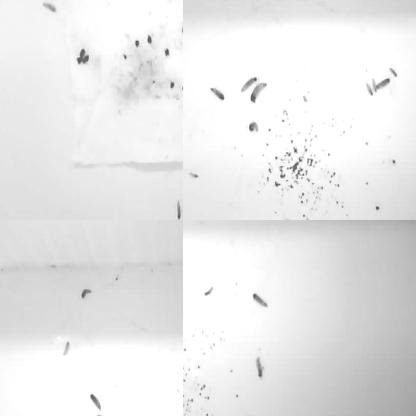PtecticusTenebrifer: (250, 82, 269, 104), (240, 76, 259, 94), (252, 292, 269, 310), (209, 88, 227, 102), (374, 78, 392, 91), (89, 393, 102, 411), (255, 355, 264, 379), (42, 1, 57, 13), (247, 121, 259, 134), (183, 369, 189, 394), (183, 288, 189, 313), (80, 288, 92, 300), (62, 340, 70, 357), (389, 66, 398, 80), (183, 291, 188, 314), (176, 198, 181, 220), (183, 227, 189, 245), (206, 286, 214, 299), (183, 174, 188, 194), (183, 406, 192, 416), (222, 0, 239, 5), (359, 0, 376, 5), (0, 288, 6, 302), (0, 265, 6, 278), (191, 0, 202, 7), (222, 0, 229, 10), (0, 266, 7, 276), (0, 385, 4, 402), (183, 220, 192, 227), (183, 372, 185, 392), (342, 0, 354, 3)
